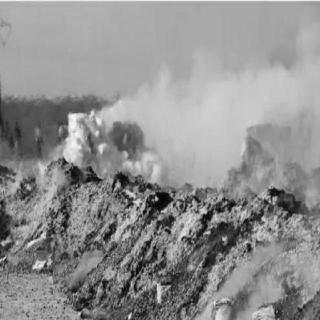Fire: (5, 132, 89, 248)
